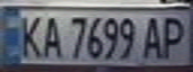6: (84, 13, 106, 60)
7: (63, 12, 87, 60)
9: (118, 14, 139, 61), (103, 13, 121, 60)
A: (139, 13, 169, 60), (36, 12, 63, 60)
K: (15, 11, 45, 60)
P: (157, 13, 190, 60)
